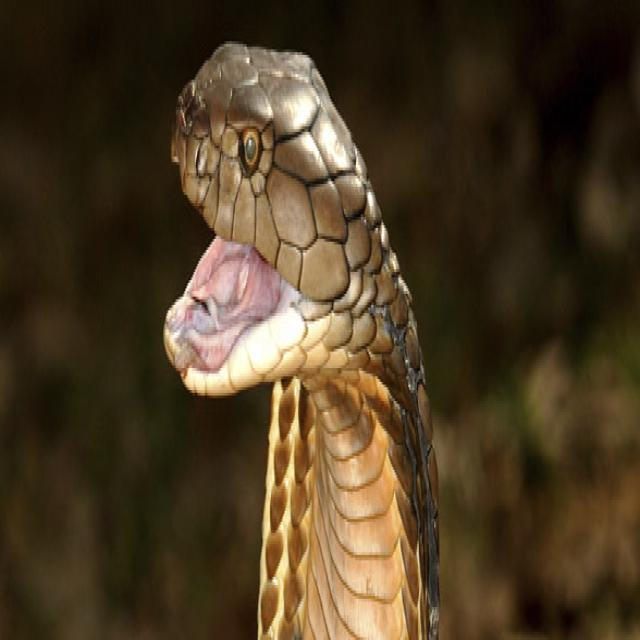Snake: (162, 35, 441, 638)
